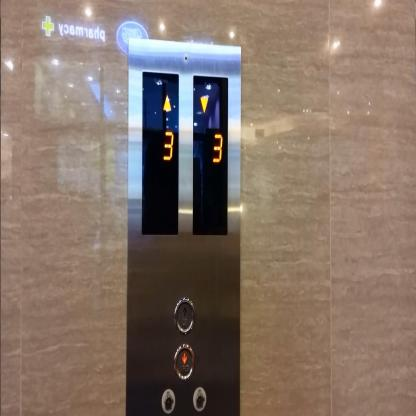down: (174, 342, 194, 380)
keyhole: (161, 388, 175, 414), (192, 386, 206, 411)
led: (141, 69, 180, 236), (192, 74, 228, 235)
up: (173, 297, 194, 335)
